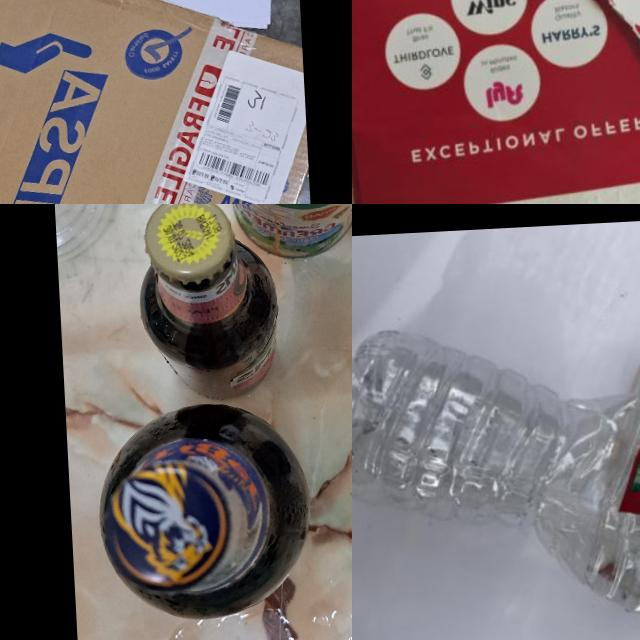garrafa de vidro: (94, 396, 314, 626), (134, 204, 284, 406)
garrafa plástica: (352, 303, 640, 640), (46, 204, 124, 266)
lata: (224, 204, 352, 263)
papel: (352, 0, 640, 204), (0, 0, 302, 46)
papelão: (0, 0, 328, 204)
